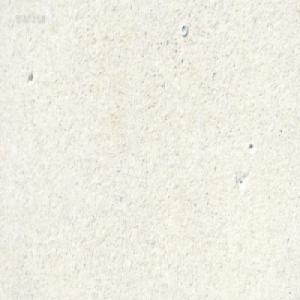Washer: (180, 21, 188, 35)
